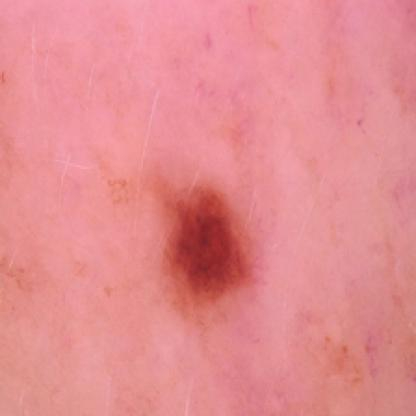benign: (164, 176, 258, 316)
